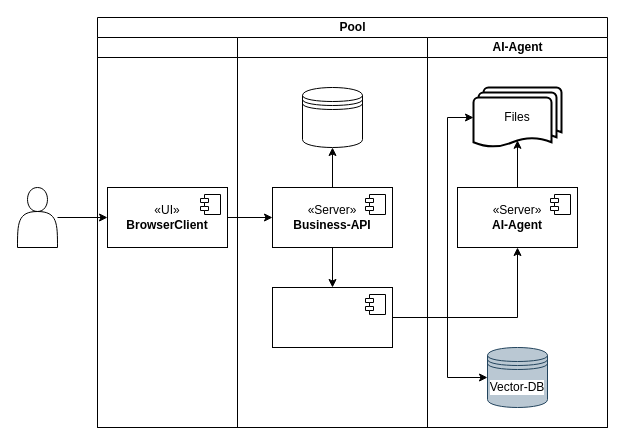
Some shapes in this 625 by 445 pixel diagram are drawn without their labels. Here are the shapes that lost their labels. From the top down, the box of each, then its label:
(302, 86, 362, 148): SQL-DB
(96, 36, 238, 428): Frontend
(236, 36, 428, 428): Backend
(272, 286, 392, 348): «Server» AI-API
